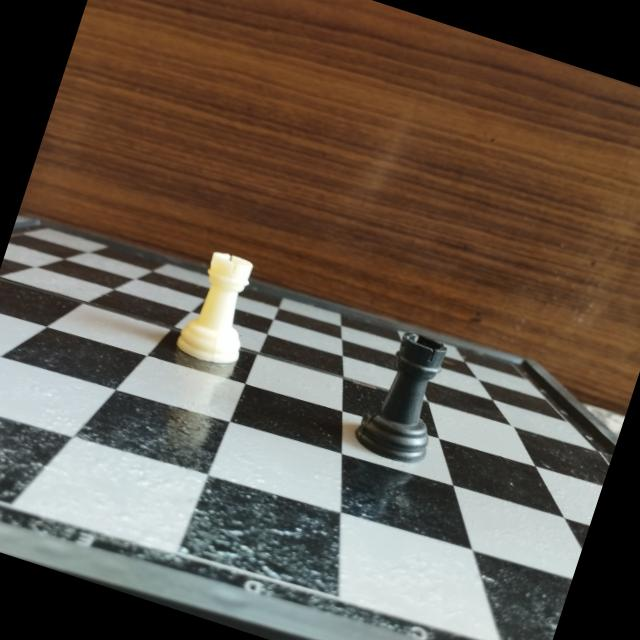Black Rook: (350, 314, 468, 472)
White Rook: (166, 238, 276, 378)
